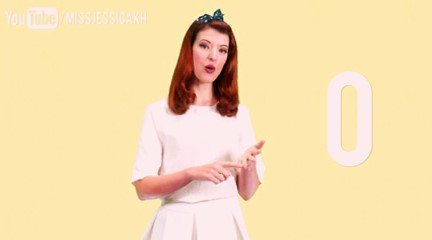O: (194, 138, 272, 187)
